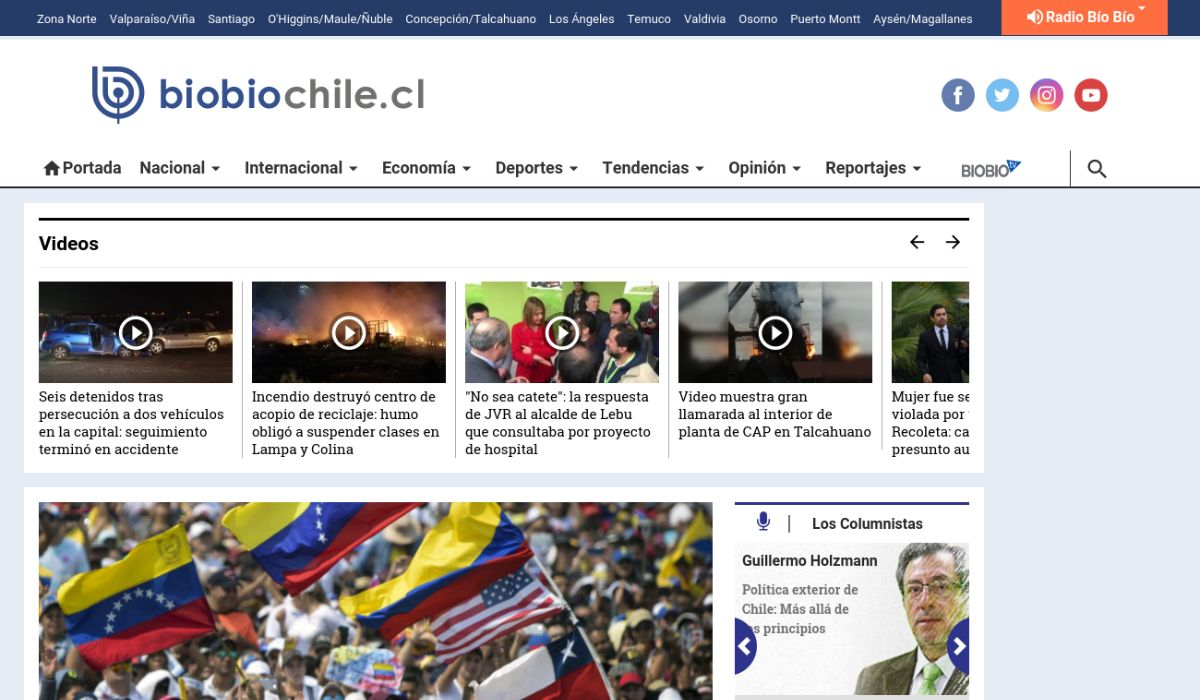menu: (1, 161, 1199, 203), (1, 1, 1199, 40)
menu-button: (1085, 1, 1199, 38), (260, 169, 390, 194), (649, 169, 766, 196), (890, 168, 1002, 196), (410, 169, 515, 196), (436, 11, 584, 30), (287, 10, 428, 29), (146, 168, 242, 195), (532, 169, 630, 195), (943, 9, 1058, 31), (44, 169, 134, 196), (783, 169, 874, 195), (115, 9, 215, 31), (1036, 169, 1112, 195), (852, 10, 936, 32), (37, 9, 107, 31), (590, 12, 668, 29), (222, 10, 281, 31), (737, 10, 790, 28), (796, 11, 846, 30), (677, 12, 729, 29), (1173, 168, 1199, 197)
